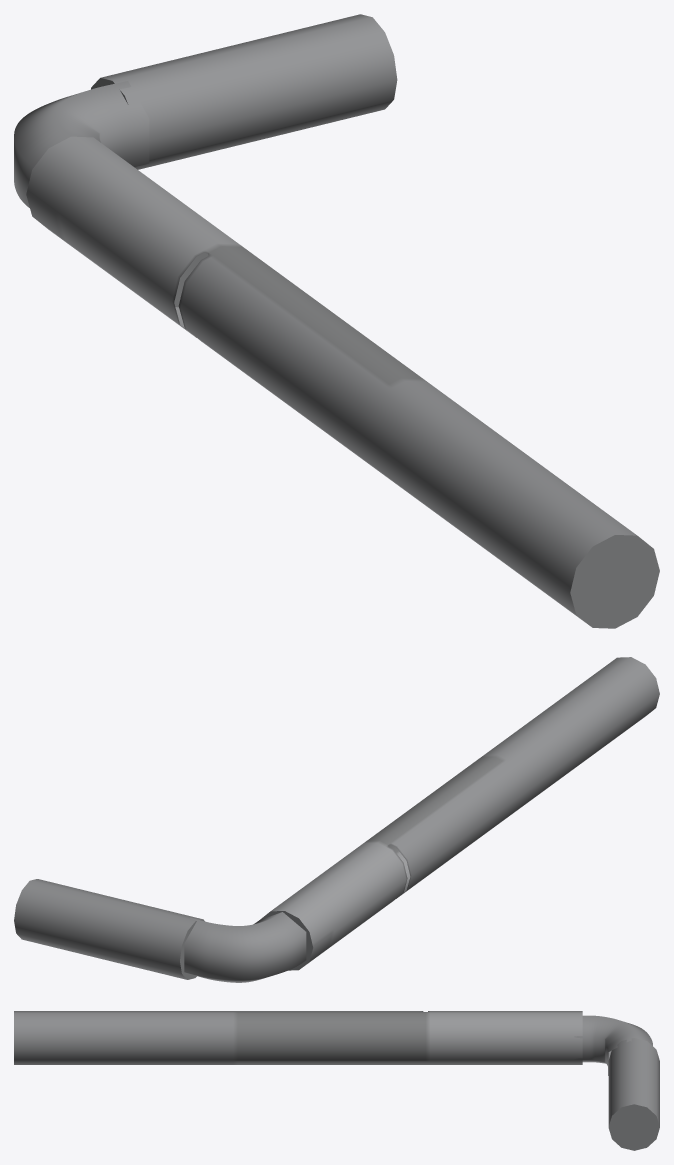
The picture shows the model from 3 angles, top to bottom: view 1: azimuth 30°, elevation 25°; view 2: azimuth 150°, elevation 25°; view 3: azimuth 270°, elevation 25°; orthographic projection. The views are drawn at different scales.
Size of the model in its own units: 0.882 by 0.2 by 2.39.
